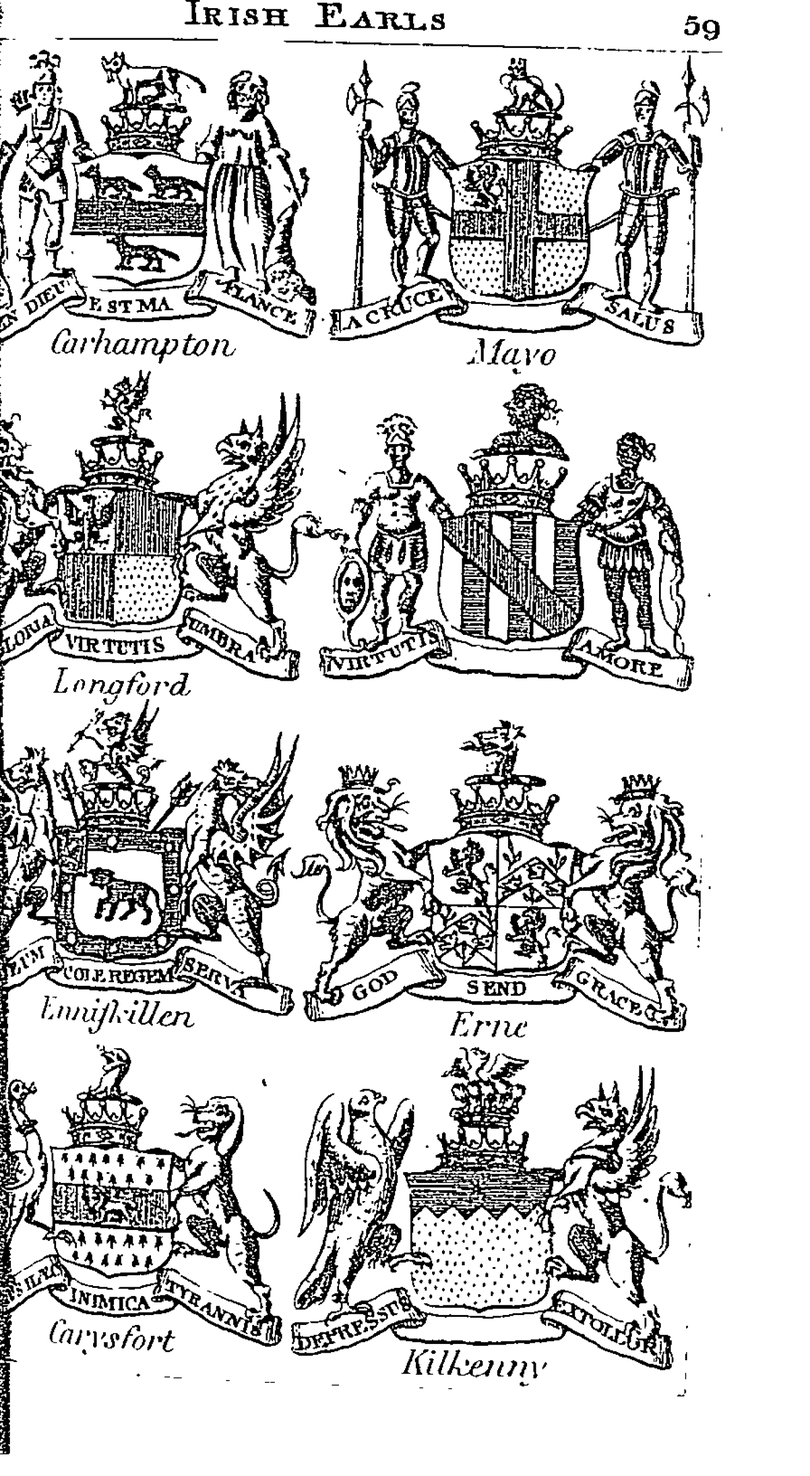coat_of_arms: (289, 1044, 698, 1403), (311, 376, 711, 711), (298, 713, 699, 1041), (332, 44, 719, 380), (1, 36, 327, 370), (1, 376, 311, 704), (5, 706, 298, 1043), (9, 1045, 280, 1371)
